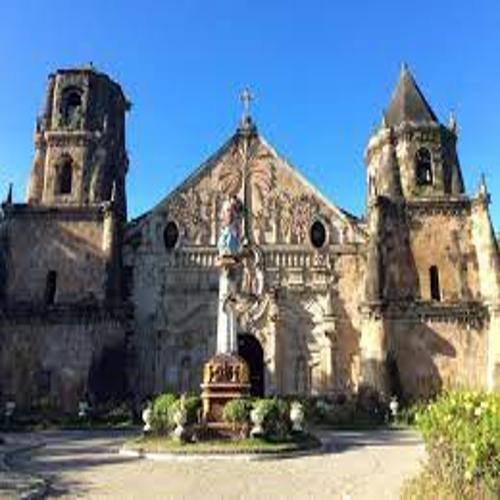Miagao Church: (5, 45, 500, 431)
